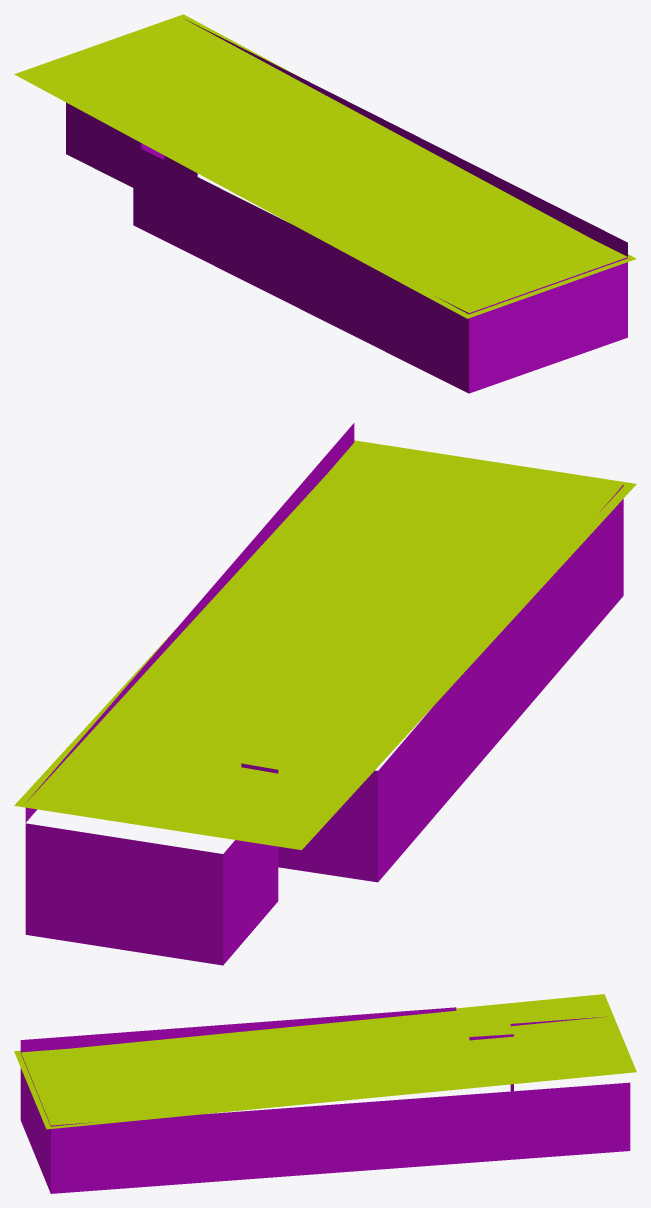
File: niv_92.glb
3 views of the same model, one above another, from view 1: azimuth 30°, elevation 25°; view 2: azimuth 150°, elevation 25°; view 3: azimuth 270°, elevation 25° (orthographic). The views are drawn at different scales.
Visible parts, largest first — view 1: niv_92; view 2: niv_92; view 3: niv_92.
Part boxes in pixels (left/top/right/bottom): niv_92: left=14, top=14, right=636, bottom=393; niv_92: left=14, top=423, right=636, bottom=965; niv_92: left=14, top=994, right=636, bottom=1193.
Bounding box in the file's own units: 21.4 × 6.59 × 46.19.
